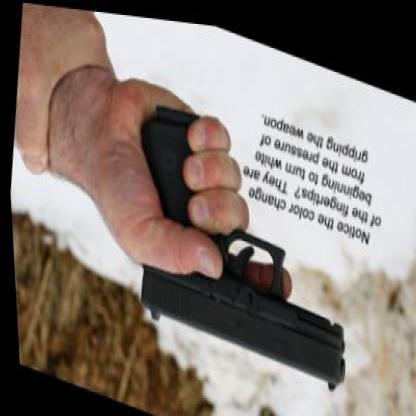pistol: (118, 92, 367, 390)
